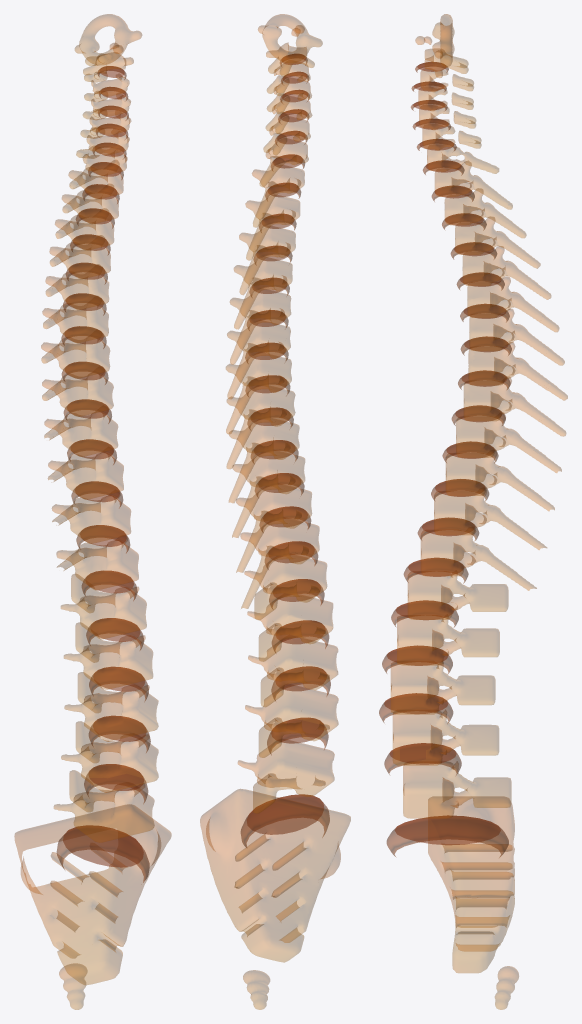
The model's file is spine-anatomical-lite.glb.
3 views of the same model, side by side, from view 1: azimuth 30°, elevation 25°; view 2: azimuth 150°, elevation 25°; view 3: azimuth 270°, elevation 25° (orthographic). The views are drawn at different scales.
Visible parts, largest first — view 1: sacrum, L5, L4, L3, L2, L1, disc_L5S, T12, T11, T10, T9, T8 (+33 smaller); view 2: sacrum, L5, L4, L3, L2, L1, T12, disc_L5S, T11, T10, T9, T8 (+32 smaller); view 3: sacrum, L5, L4, L3, L2, L1, disc_L5S, T12, T11, T10, T9, T8 (+31 smaller).
Boxes of the visible parts, x1,y1,x2,y2 form: sacrum: (14,804,171,984); L5: (54,770,154,842); L4: (61,721,158,792); L3: (64,672,158,741); L2: (64,622,152,689); L1: (61,574,146,638); disc_L5S: (56,825,149,882); T12: (56,538,138,589); T11: (52,495,130,543); T10: (48,452,123,499); T9: (44,413,117,456); T8: (42,374,113,416); sacrum: (200,789,350,962); L5: (238,740,334,813); L4: (245,686,338,757); L3: (248,638,337,706); L2: (247,597,332,661); L1: (244,558,326,619); T12: (240,522,319,608); disc_L5S: (240,794,329,847); T11: (236,488,311,572); T10: (232,454,304,537); T9: (229,422,299,502); T8: (226,389,295,468); sacrum: (428,797,514,972); L5: (403,762,511,818); L4: (393,710,498,765); L3: (391,662,495,714); L2: (397,616,499,665); L1: (407,572,508,619); disc_L5S: (386,815,508,857); T12: (421,531,536,590); T11: (434,490,546,549); T10: (445,452,554,510); T9: (456,413,561,472); T8: (464,377,566,436).
Bounding box in the file's own units: 0.1117 × 0.7962 × 0.1373.
